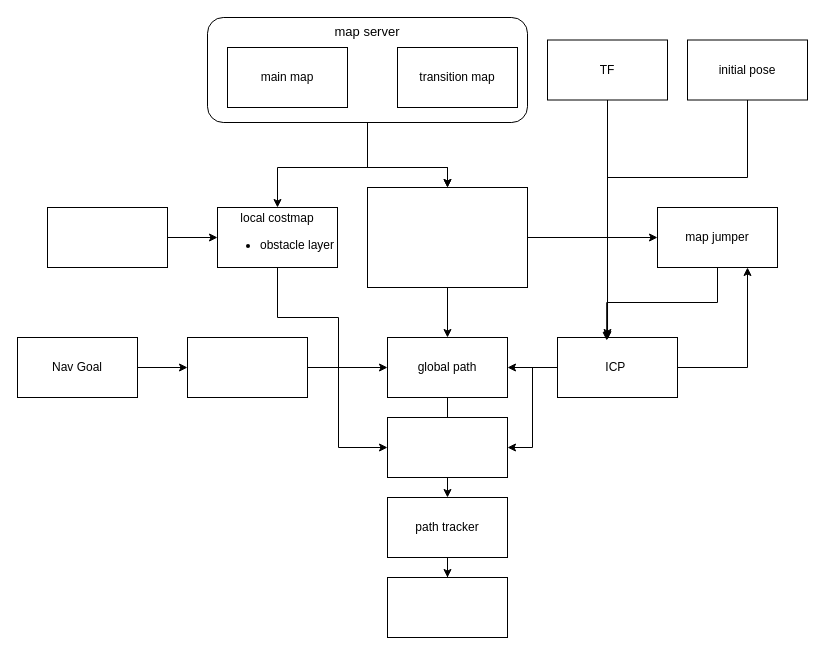
Image size: 825x655. Some labels were removed from this diagram. The box of each missing label's shape, as (x1, y1, x2, y2) in pixels:
global costmap static layer inflation layer transition layer expansion layer: (366, 186, 528, 288)
Lidar: (46, 206, 168, 268)
local path: (386, 416, 508, 478)
path interceptor: (186, 336, 308, 398)
velocity command: (386, 576, 508, 638)
